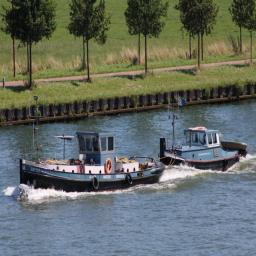tugboat: (19, 90, 167, 197), (160, 115, 250, 179)
